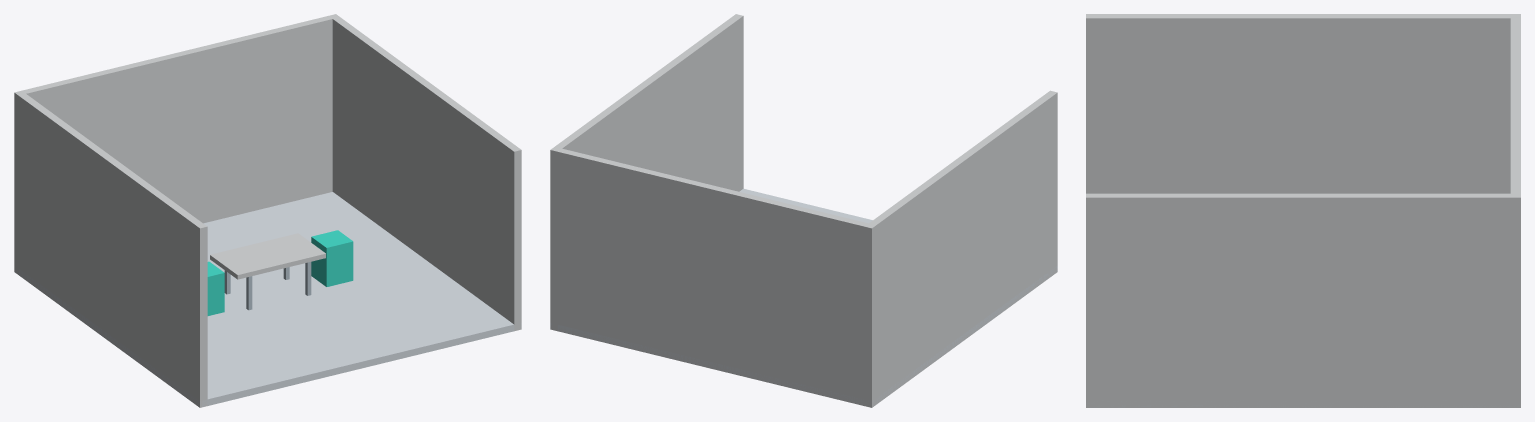
3 views of the same model, side by side, from view 1: azimuth 30°, elevation 25°; view 2: azimuth 150°, elevation 25°; view 3: azimuth 270°, elevation 25° (orthographic). The views are drawn at different scales.
Parts seen in each view (by area): view 1: Exhibition Booth Concept; view 2: Exhibition Booth Concept; view 3: Exhibition Booth Concept.
Part boxes in pixels (x1,y1,x2,y2): Exhibition Booth Concept: (14, 14, 521, 407); Exhibition Booth Concept: (550, 14, 1057, 407); Exhibition Booth Concept: (1086, 14, 1520, 407).
Bounding box in the file's own units: 6 × 3.2 × 6.
